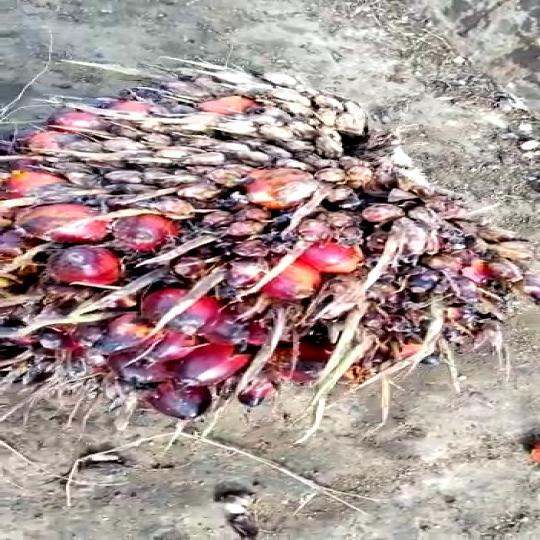masak: (0, 65, 537, 445)
